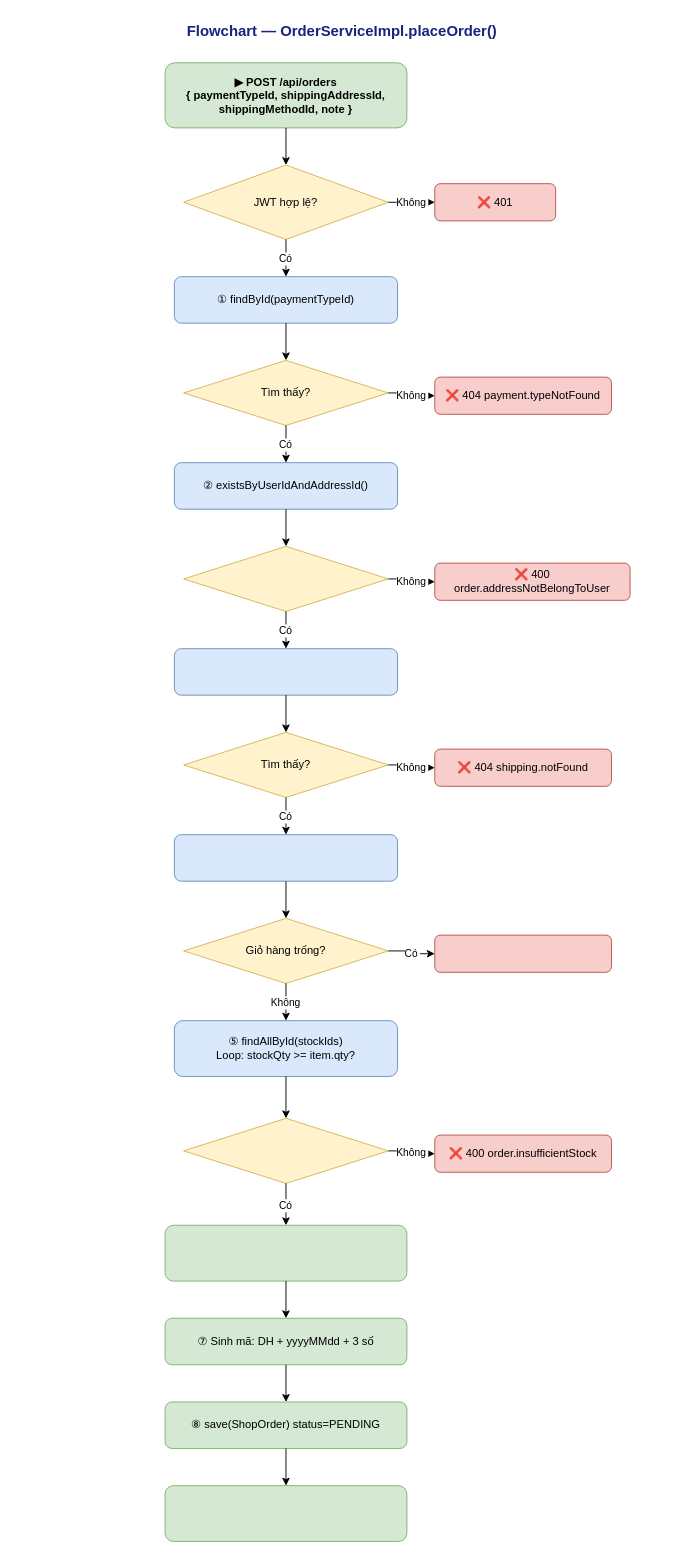
Some shapes in this 683 by 1558 pixel diagram are drawn without their labels. Here are the shapes that lost their labels. From the top down, the centre of each, then its label:
At pixel 285 578: "Thuộc user?".
At pixel 285 671: "③ findById(shippingMethodId)".
At pixel 285 857: "④ Lấy cartItems của user".
At pixel 522 953: "❌ 400 order.cartEmpty".
At pixel 285 1150: "Tất cả đủ hàng?".
At pixel 285 1252: "⑥ subtotal = Σ(unitPrice × qty) orderTotal = subtotal + shippingFee".
At pixel 285 1513: "⑨ Loop: save OrderLine + stock.qty -= qty".
